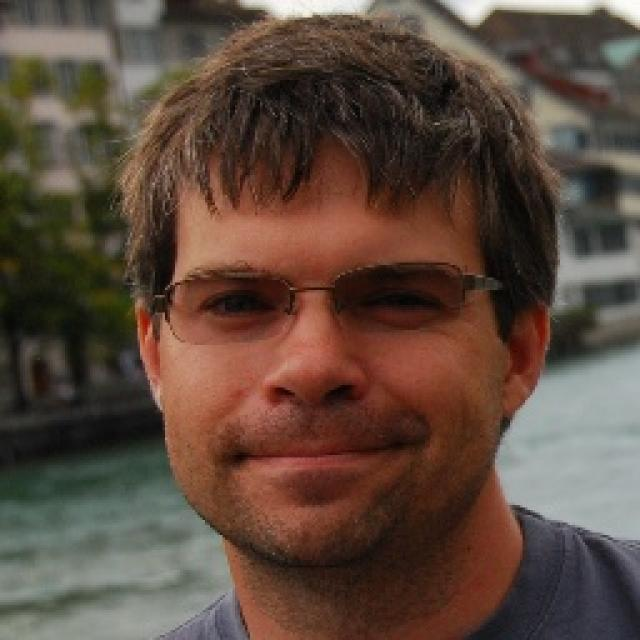earlobe: (498, 297, 552, 420), (132, 301, 169, 416)
